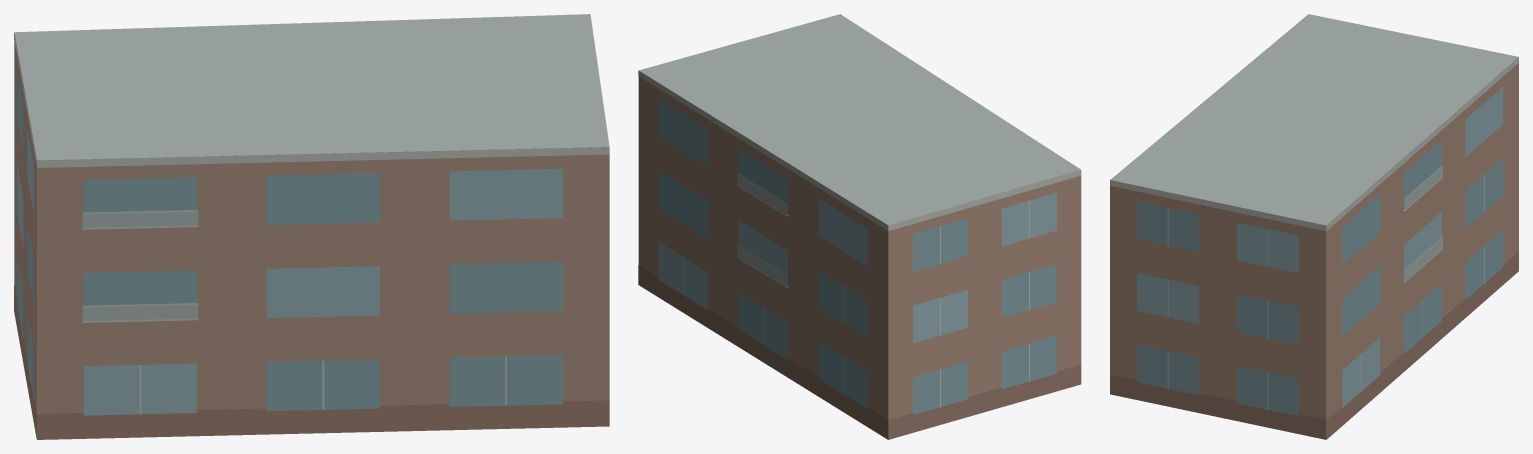
Rendered from survey-upis-33009046.glb.
The picture shows the model from 3 angles, left to right: view 1: azimuth 30°, elevation 25°; view 2: azimuth 150°, elevation 25°; view 3: azimuth 270°, elevation 25°; orthographic projection. The views are drawn at different scales.
Parts seen in each view (by area): view 1: survey-upis-33009046.tmp; view 2: survey-upis-33009046.tmp; view 3: survey-upis-33009046.tmp.
Part boxes in pixels (x1,y1,x2,y2): survey-upis-33009046.tmp: [14, 14, 609, 439]; survey-upis-33009046.tmp: [638, 14, 1081, 439]; survey-upis-33009046.tmp: [1110, 14, 1518, 439].
Size of the model in its own units: 19.06 by 9 by 15.56.
